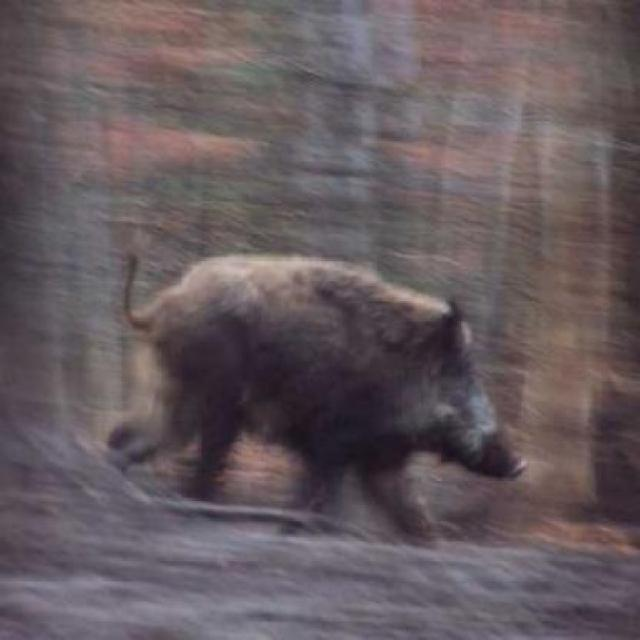pig: (108, 208, 578, 580)
